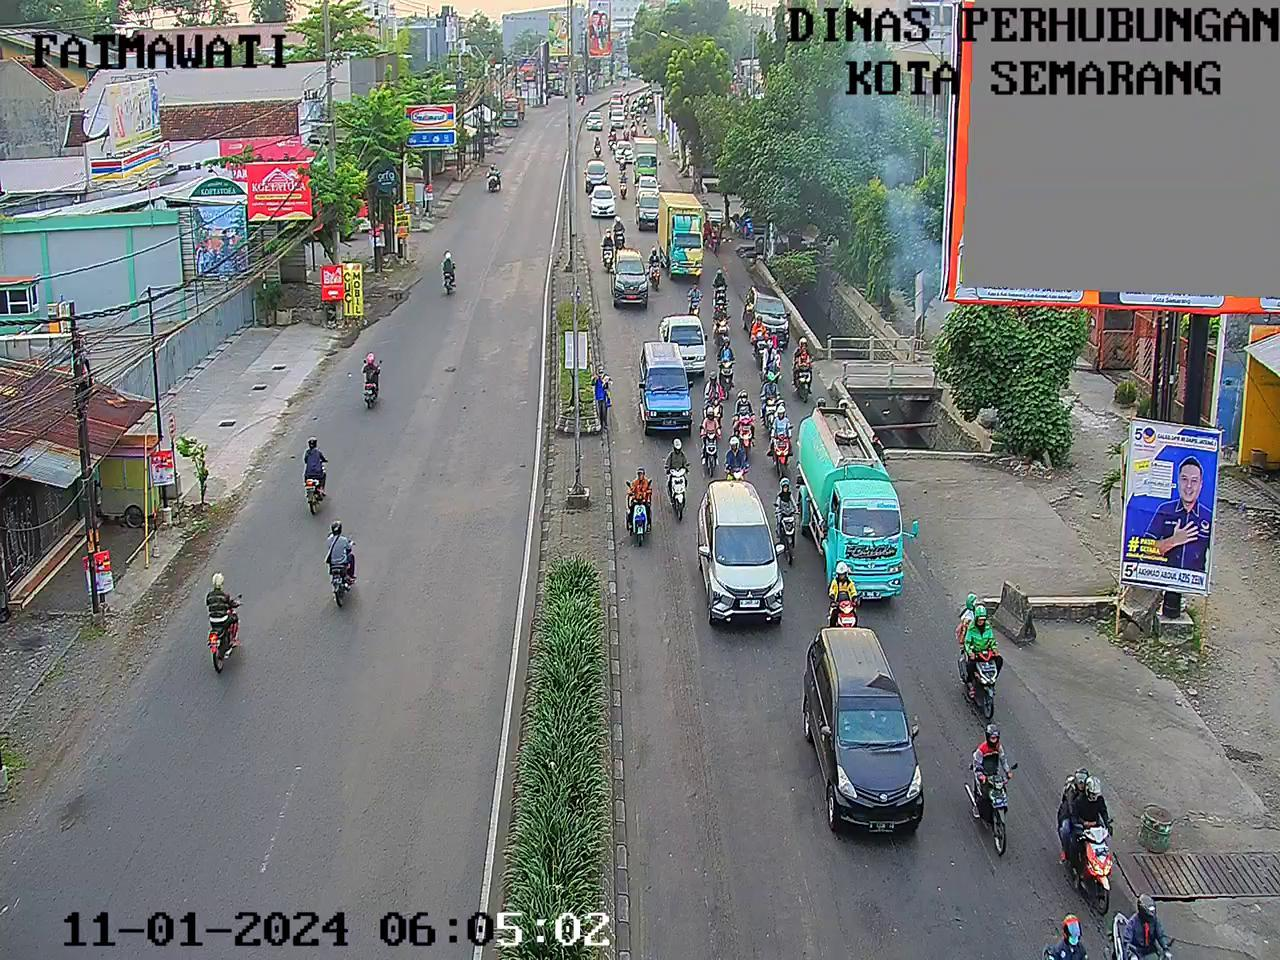car: (791, 615, 937, 840), (692, 475, 787, 628), (634, 337, 694, 437), (656, 308, 708, 375), (742, 282, 792, 350), (608, 245, 652, 315), (635, 194, 666, 232), (588, 183, 616, 220), (582, 154, 610, 188), (585, 109, 607, 135), (614, 139, 635, 163), (637, 169, 659, 192), (637, 190, 663, 204), (610, 103, 625, 124), (610, 87, 623, 109)
motorcycle: (1053, 759, 1120, 915), (962, 720, 1024, 870), (948, 586, 1008, 723), (1107, 885, 1177, 960), (823, 559, 877, 632), (616, 463, 658, 551), (1035, 905, 1095, 960), (773, 473, 806, 568), (664, 438, 695, 534), (765, 400, 796, 479), (791, 336, 821, 413), (698, 405, 726, 483), (762, 368, 788, 441), (722, 432, 751, 488), (702, 371, 726, 435), (733, 389, 756, 451), (718, 335, 738, 405), (759, 337, 786, 388), (709, 301, 734, 350), (600, 223, 618, 276), (868, 431, 891, 472), (645, 246, 664, 295), (684, 280, 707, 321), (710, 266, 731, 308), (751, 316, 772, 356), (703, 211, 720, 256), (612, 214, 628, 254), (619, 169, 633, 204), (616, 150, 628, 173), (592, 135, 603, 159), (836, 395, 849, 414), (815, 392, 827, 410), (621, 123, 632, 141), (630, 119, 639, 139), (634, 105, 643, 122), (607, 131, 615, 150), (609, 124, 617, 141), (642, 101, 651, 116), (642, 116, 649, 135), (638, 94, 647, 108), (623, 103, 630, 120), (625, 89, 630, 111), (633, 95, 639, 110)
truck: (794, 401, 904, 609), (662, 185, 706, 284), (631, 136, 664, 181)
